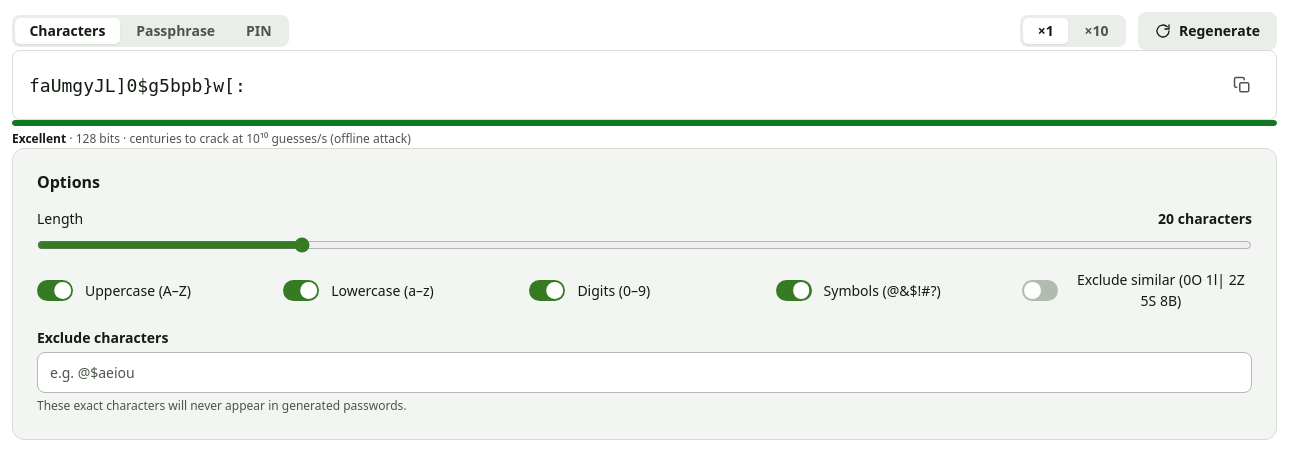
Test case: GeneratorView — PIN mode › says out loud that a PIN is weak
Click the radio button labelled "PIN".
click(259, 31)  # box left=232, top=18, right=286, bottom=44
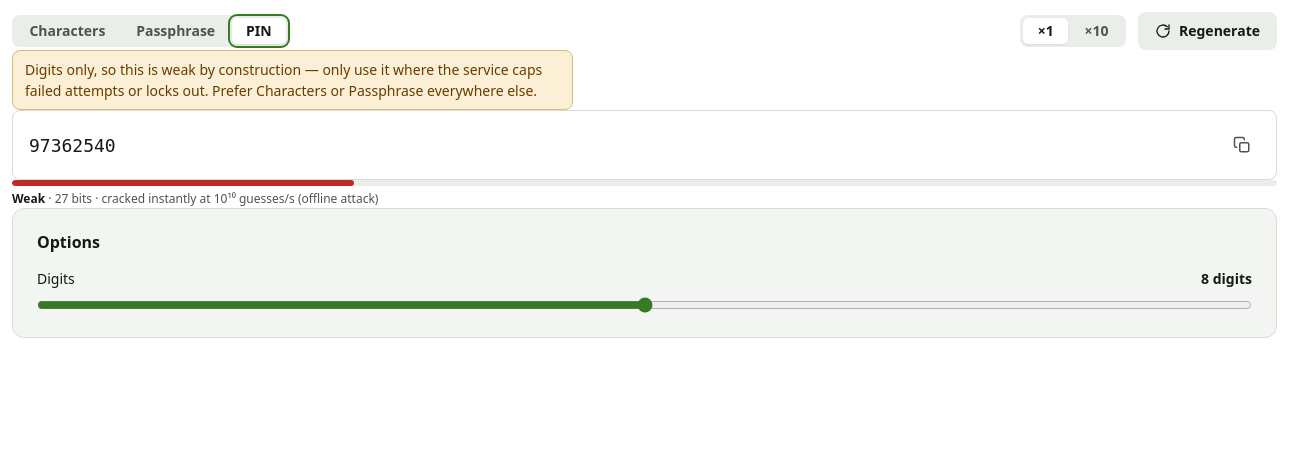
Expected: the text "Digits only" is shown, left=25, top=60, right=542, bottom=100
Expected: the text "weak" is shown, left=12, top=190, right=45, bottom=207
Expected: the text "cracked instantly" is shown, left=102, top=190, right=196, bottom=207
